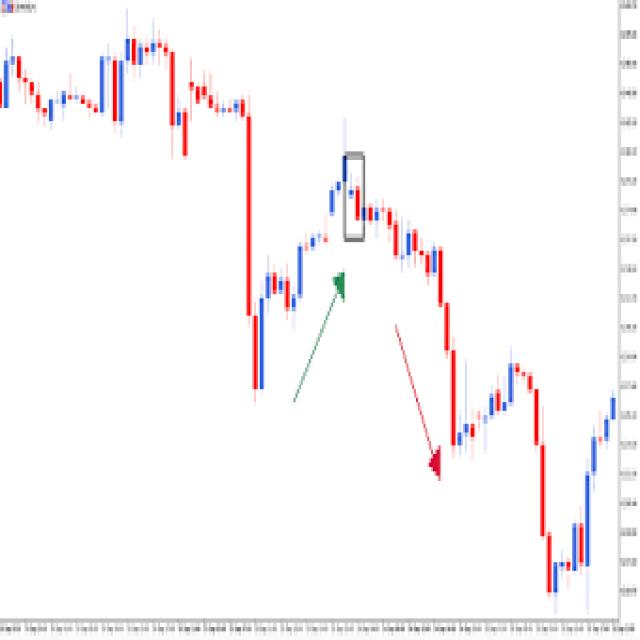bandeira_baixa: (241, 102, 330, 410), (433, 236, 516, 466)
